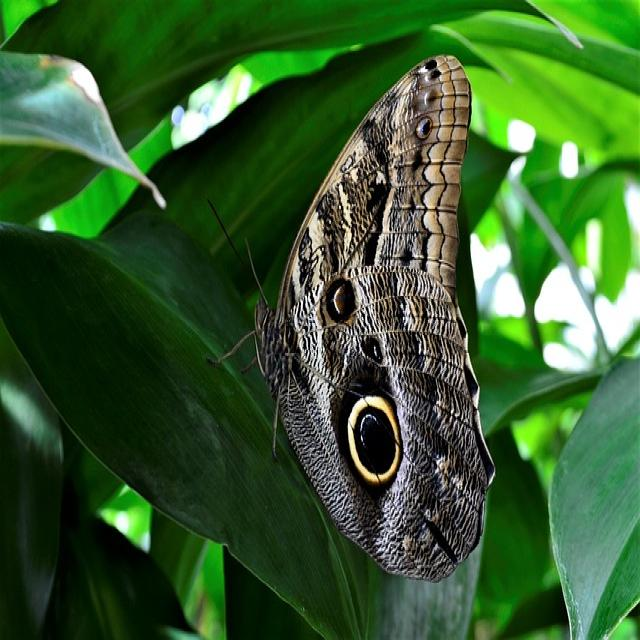butterfly: (256, 56, 496, 584)
